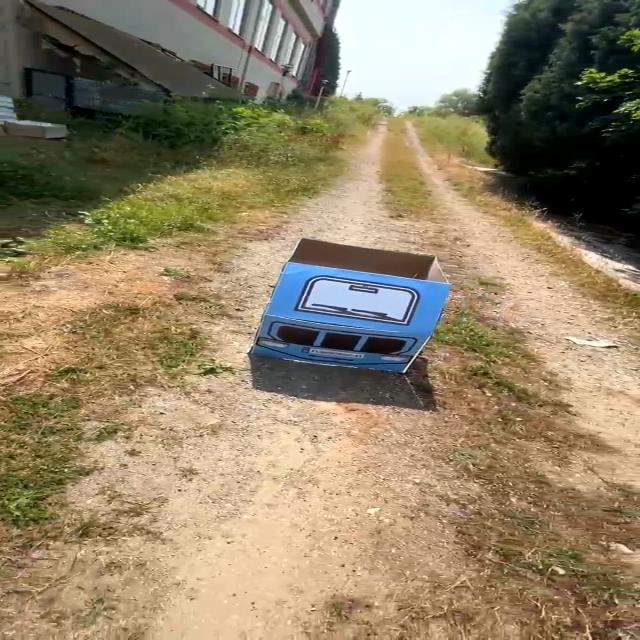blue_car: (224, 223, 462, 397)
